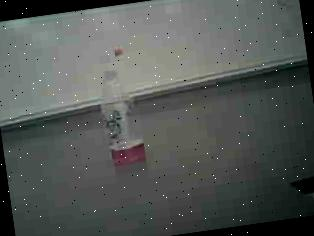hazard: (87, 38, 154, 174)
